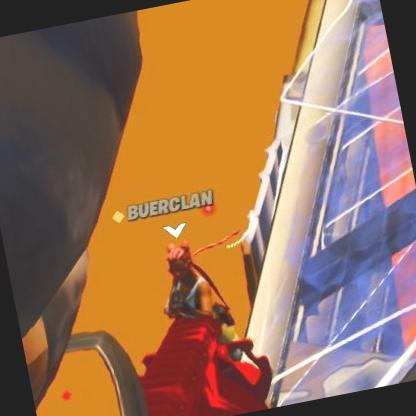person: (162, 240, 218, 323)
